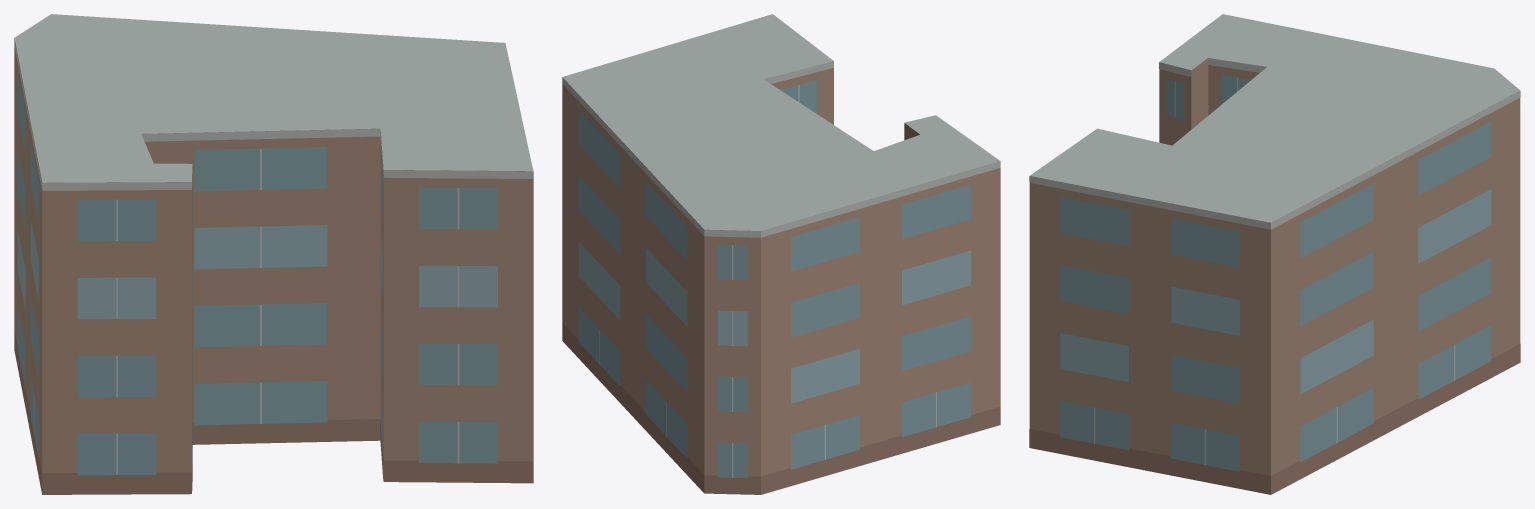
The model's file is survey-upis-32603923.glb.
3 renders of one model, left to right at view 1: azimuth 30°, elevation 25°; view 2: azimuth 150°, elevation 25°; view 3: azimuth 270°, elevation 25°, orthographic. The views are drawn at different scales.
Parts seen in each view (by area): view 1: survey-upis-32603923.tmp; view 2: survey-upis-32603923.tmp; view 3: survey-upis-32603923.tmp.
Boxes of the visible parts, x1,y1,x2,y2 form: survey-upis-32603923.tmp: [14, 14, 533, 494]; survey-upis-32603923.tmp: [562, 14, 1000, 494]; survey-upis-32603923.tmp: [1029, 14, 1520, 494].
Size of the model in its own units: 15.81 by 9.6 by 15.71.
